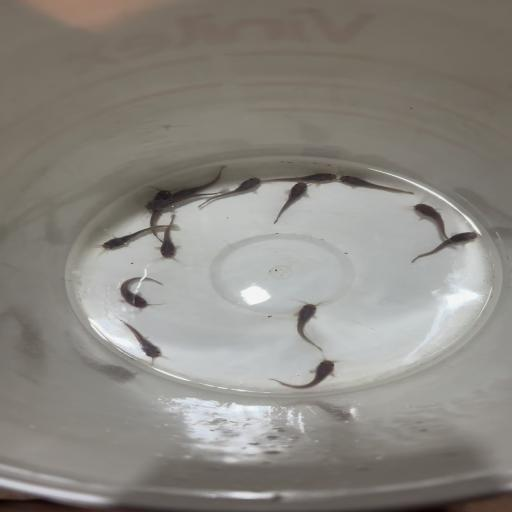lele: (112, 314, 176, 363), (266, 358, 342, 392), (89, 223, 181, 251), (410, 200, 463, 248), (411, 230, 479, 266), (195, 176, 262, 211), (285, 297, 326, 352), (116, 272, 166, 311), (271, 181, 313, 224), (174, 165, 226, 199), (140, 190, 222, 211), (338, 174, 415, 196), (145, 185, 173, 242), (156, 213, 183, 263), (258, 172, 340, 184)
